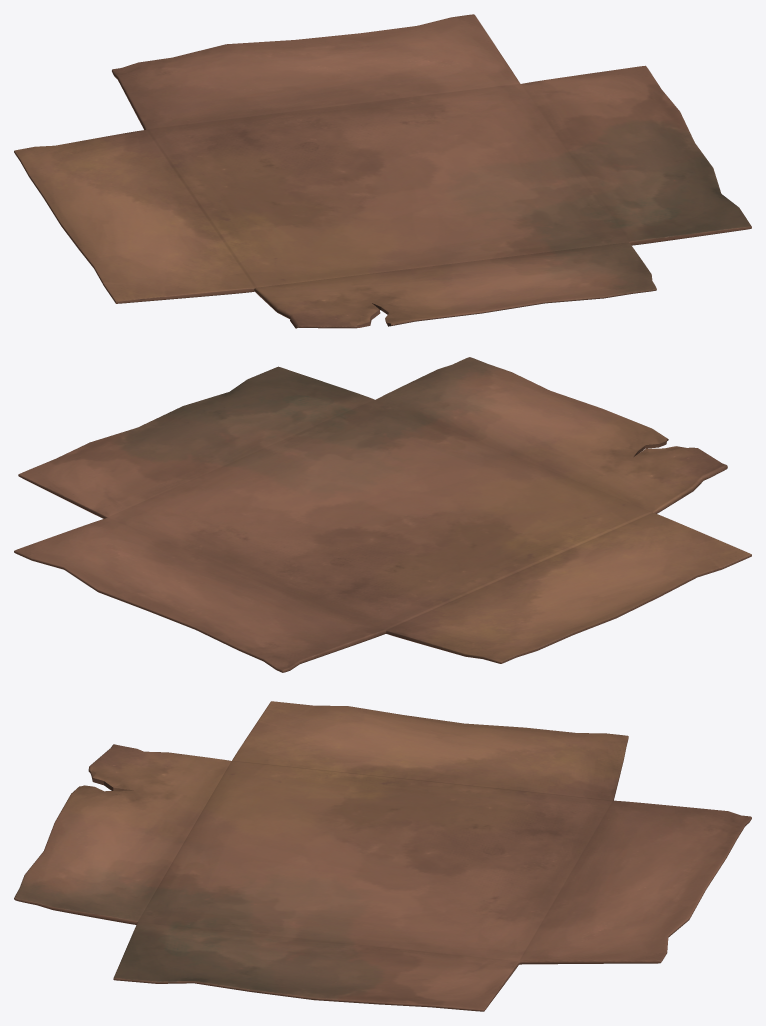
The model's file is Cardboard.fbx.
The picture shows the model from 3 angles, top to bottom: view 1: azimuth 30°, elevation 25°; view 2: azimuth 150°, elevation 25°; view 3: azimuth 270°, elevation 25°; orthographic projection.
Parts seen in each view (by area): view 1: CardBoard; view 2: CardBoard; view 3: CardBoard.
Boxes of the visible parts, x1,y1,x2,y2 form: CardBoard: (14, 14, 751, 328); CardBoard: (14, 357, 751, 672); CardBoard: (14, 701, 751, 1011).
Bounding box in the file's own units: 136 × 4.17 × 136.
1 material, 1 textured.
